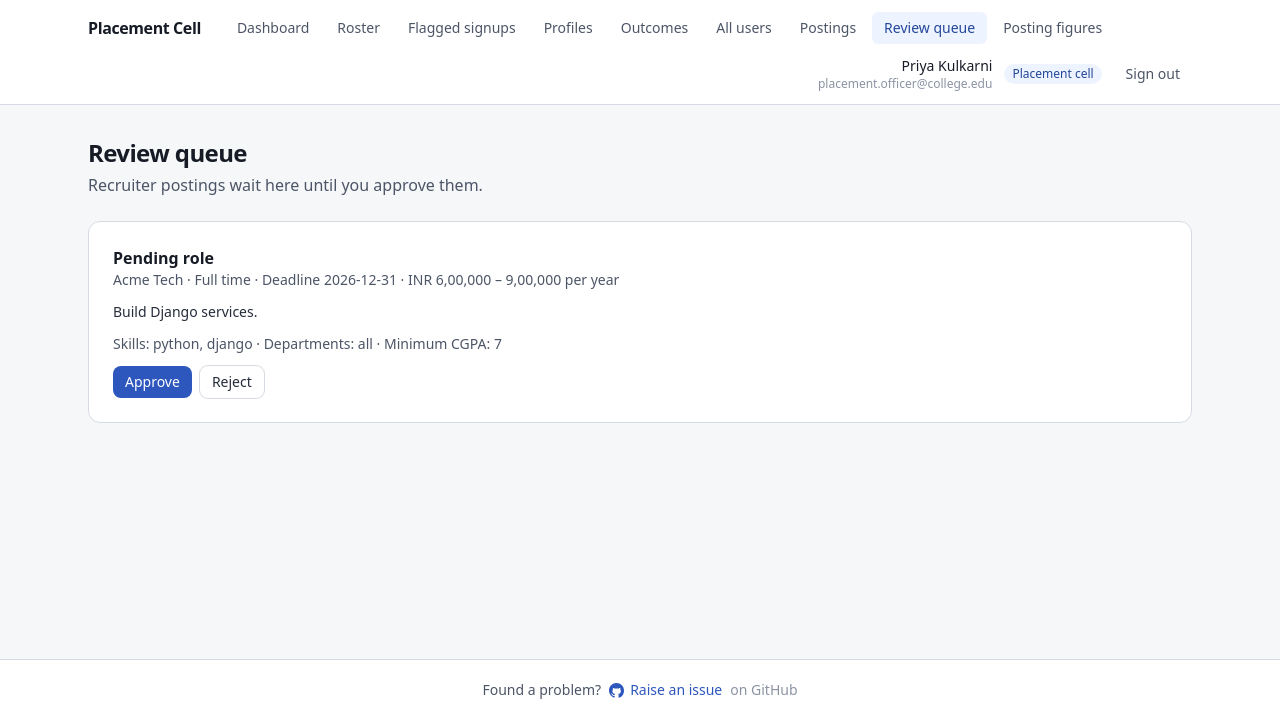
Scenario: admin review queue › approves a pending posting
Click the button "Approve" at [152, 382], box x1=113 y1=366 x2=192 y2=398
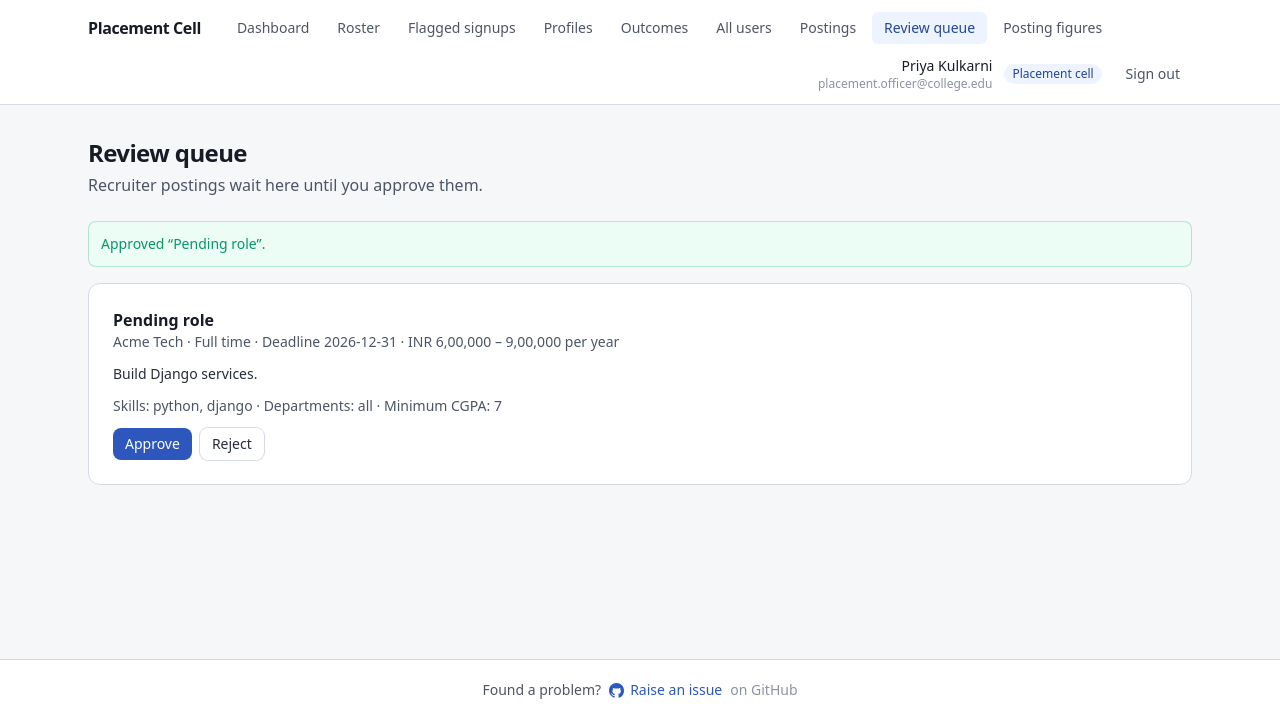
expect the text "Approved “Pending role”." is shown: met, box x1=101 y1=234 x2=265 y2=253
